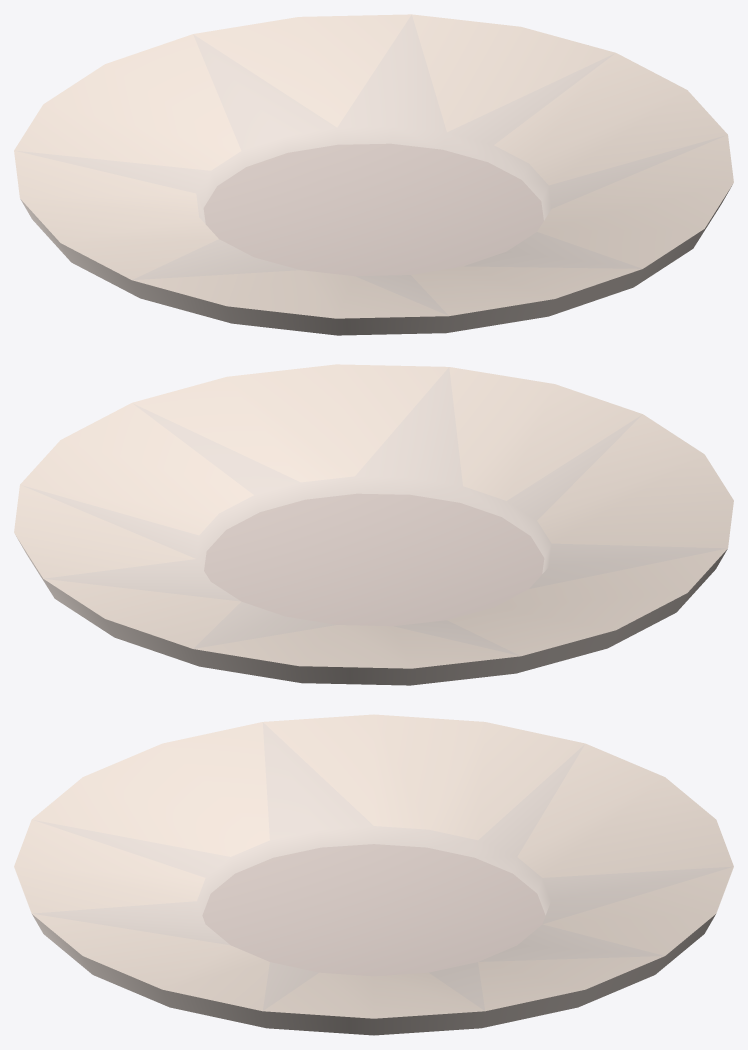
Rendered from plate_upstairs.fbx.
3 views of the same model, one above another, from view 1: azimuth 30°, elevation 25°; view 2: azimuth 150°, elevation 25°; view 3: azimuth 270°, elevation 25° (orthographic).
Visible parts, largest first — view 1: plate_upstairs; view 2: plate_upstairs; view 3: plate_upstairs.
Part boxes in pixels (left/top/right/bottom): plate_upstairs: left=14, top=14, right=733, bottom=335; plate_upstairs: left=14, top=364, right=733, bottom=685; plate_upstairs: left=14, top=714, right=733, bottom=1035.
Bounding box in the file's own units: 23.35 × 2.77 × 23.35.
